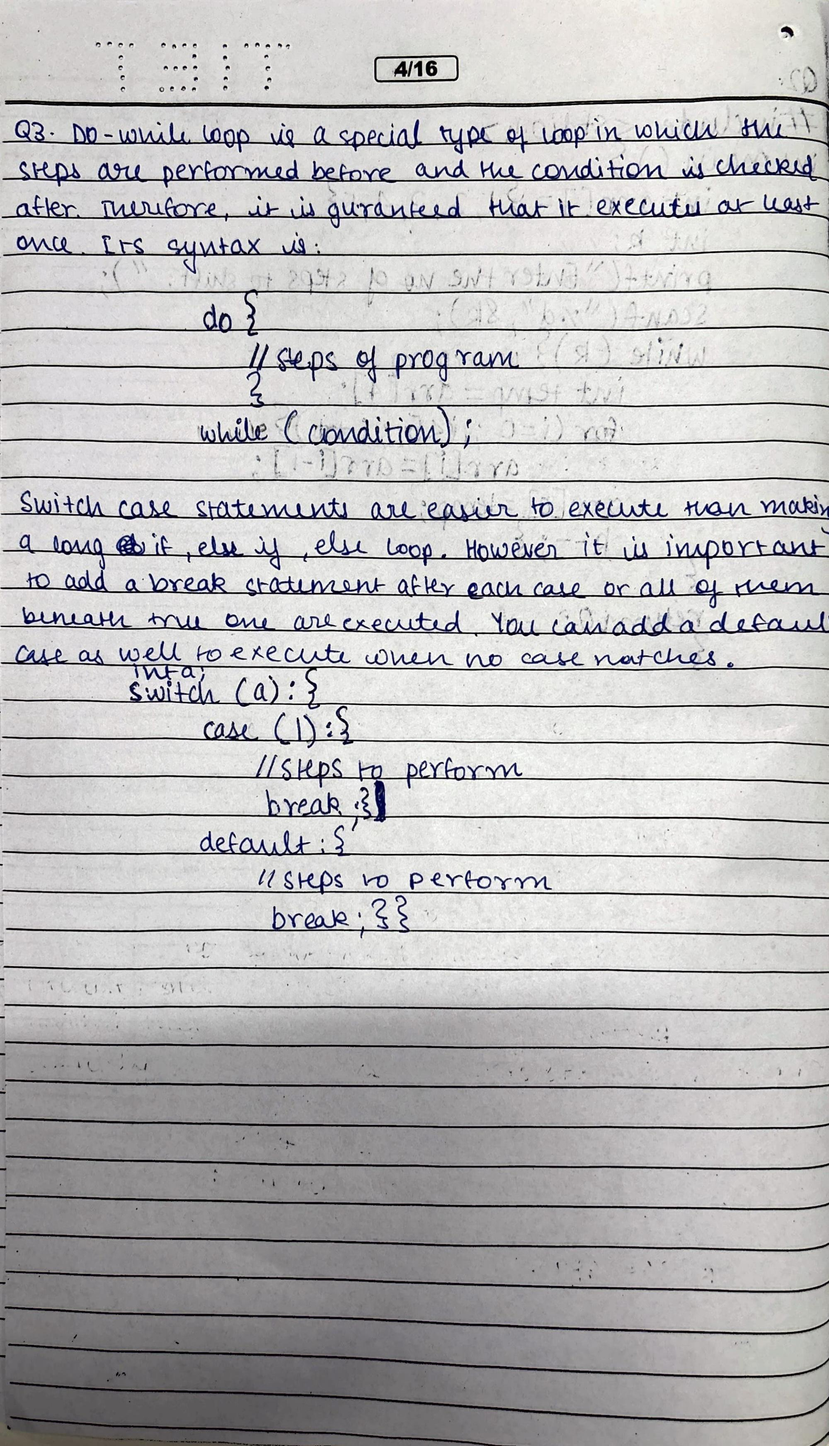cuttings: (115, 532, 146, 557), (372, 779, 387, 824)
